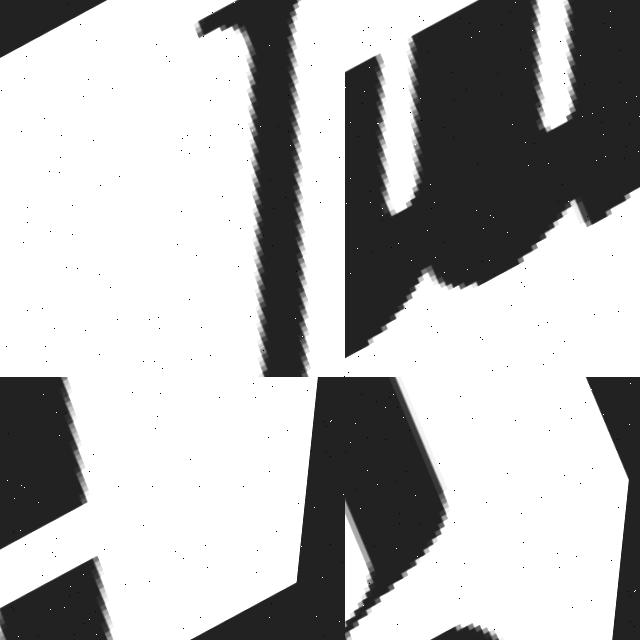A: (345, 377, 635, 640)
I: (0, 377, 262, 640)
L: (48, 0, 345, 377)
M: (345, 0, 640, 377)
